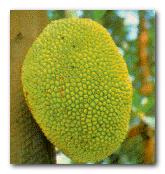jackfruit: (20, 18, 133, 163)
